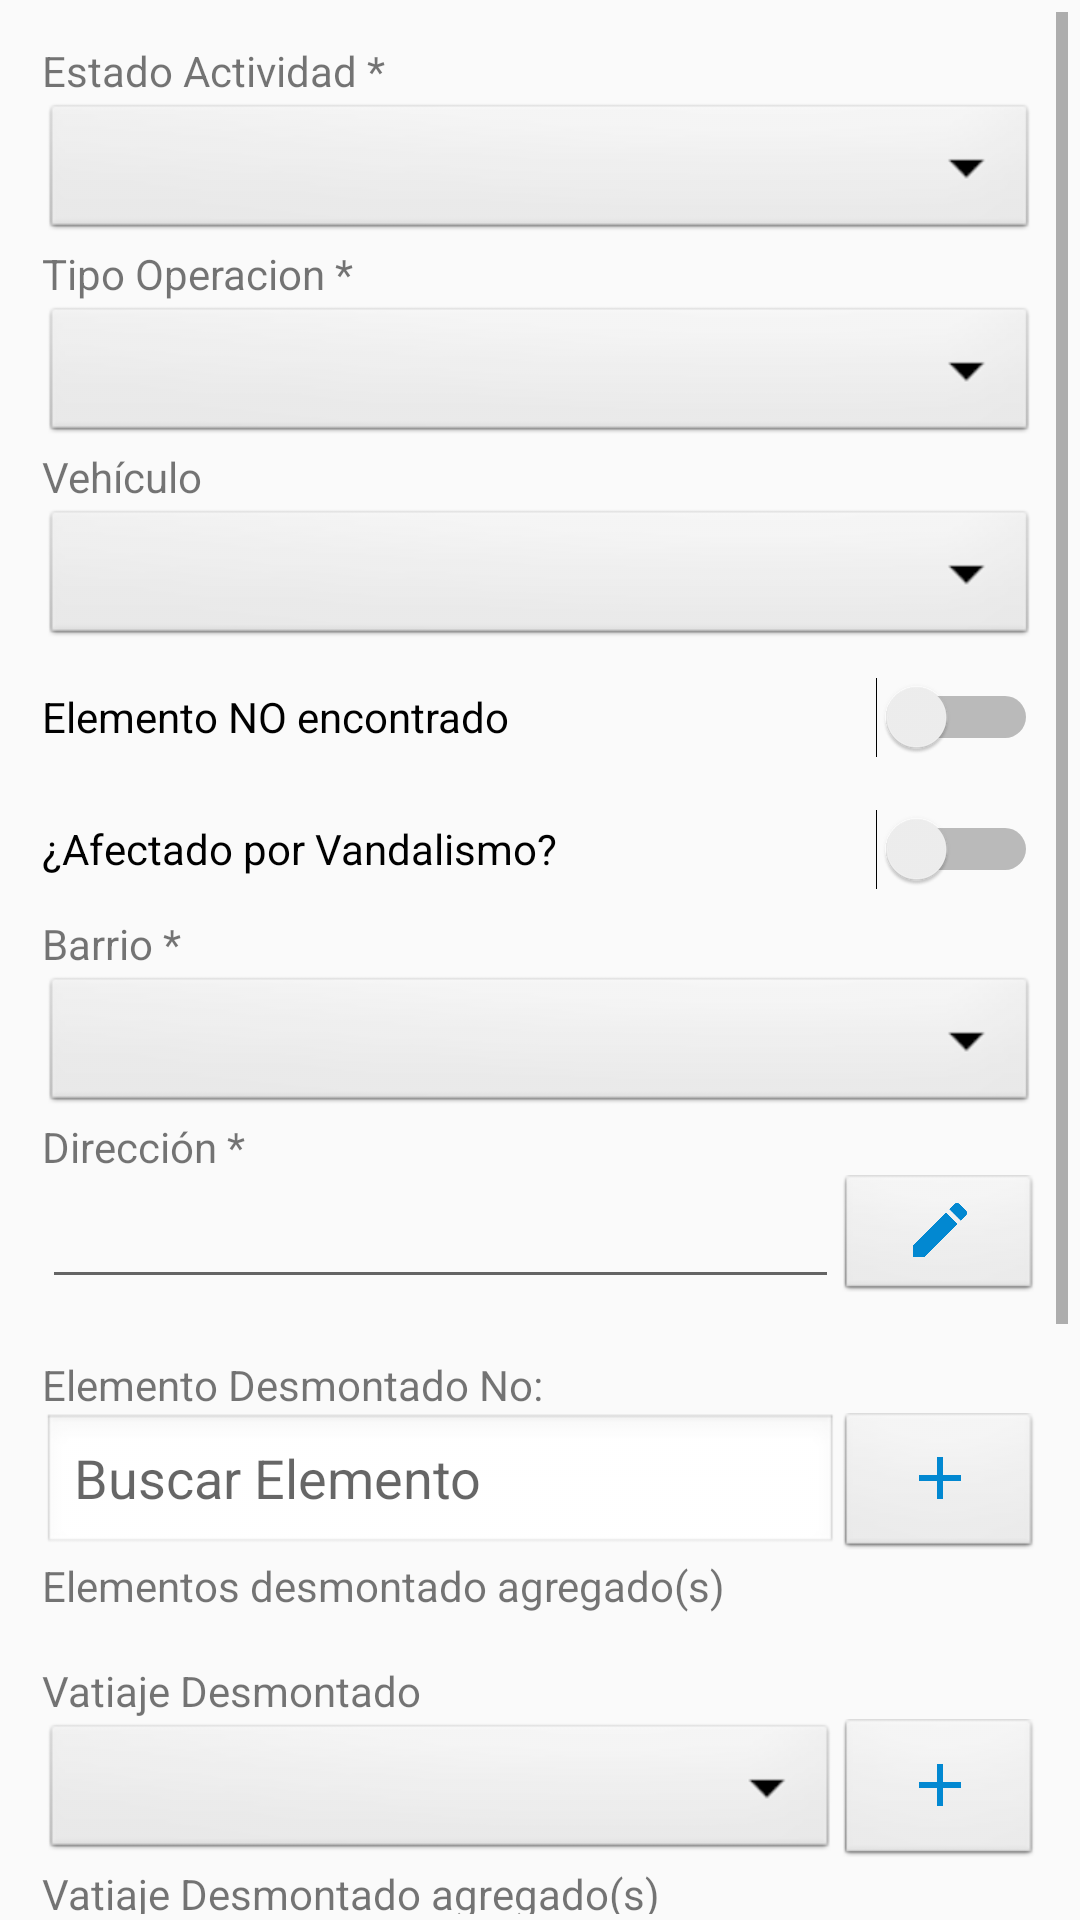

Where to tap for icons on this 1080x1920 app screen, as (x,y):
edit: (938,1233)
